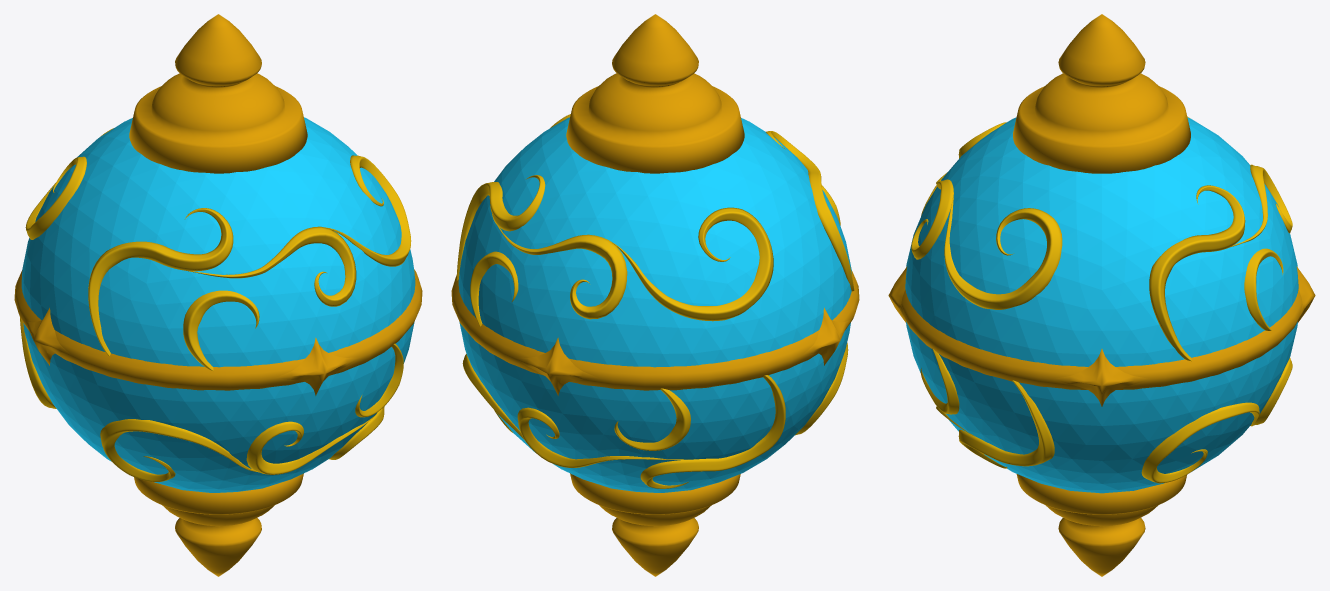
Rendered from palsphere.glb.
3 renders of one model, left to right at view 1: azimuth 30°, elevation 25°; view 2: azimuth 150°, elevation 25°; view 3: azimuth 270°, elevation 25°, orthographic.
Parts seen in each view (by area): view 1: Plane; view 2: Plane; view 3: Plane.
Boxes of the visible parts, x1,y1,x2,y2 form: Plane: [14, 14, 422, 576]; Plane: [451, 14, 859, 576]; Plane: [888, 14, 1315, 576].
Size of the model in its own units: 2.16 by 3.14 by 2.16.
